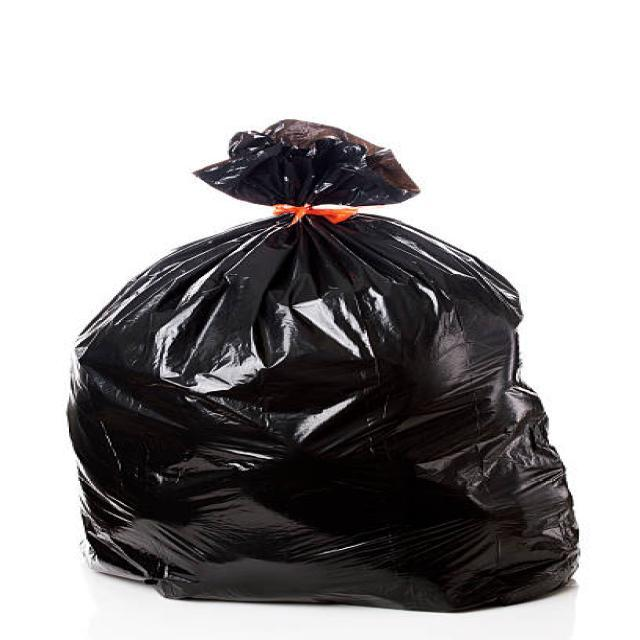Vinyl: (62, 103, 588, 613)
